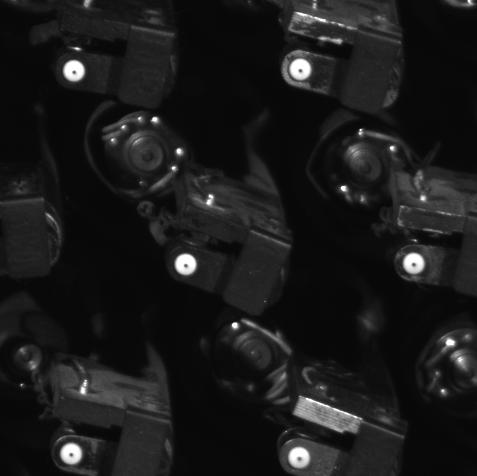fiber: (59, 54, 92, 89), (55, 439, 89, 470), (285, 54, 317, 84), (285, 442, 315, 473), (398, 249, 430, 278), (172, 251, 203, 279)
